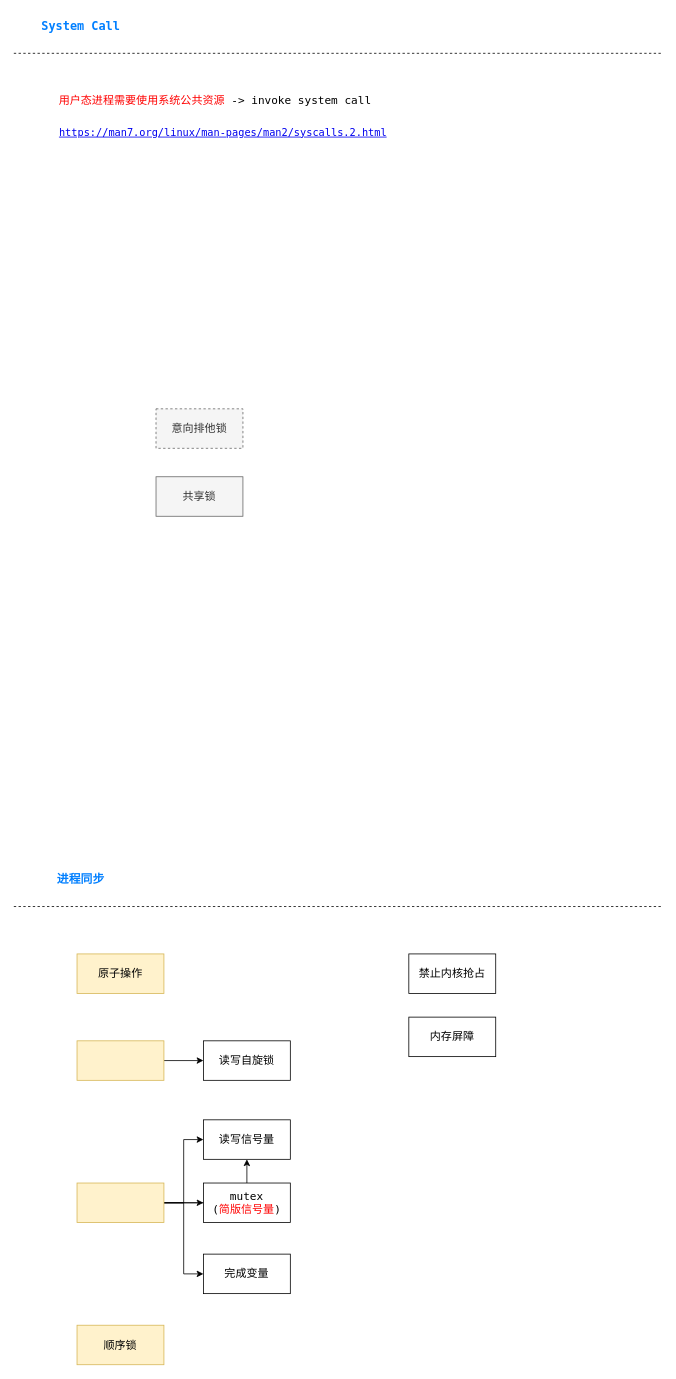
Some shapes in this 676 by 1379 pixel diagram are drawn without their labels. Here are the shapes that lost their labels. From the top down, the centre of each, then its label:
At pixel 120 1060: "自旋锁".
At pixel 120 1202: "信号量 ( 睡眠锁 )".
